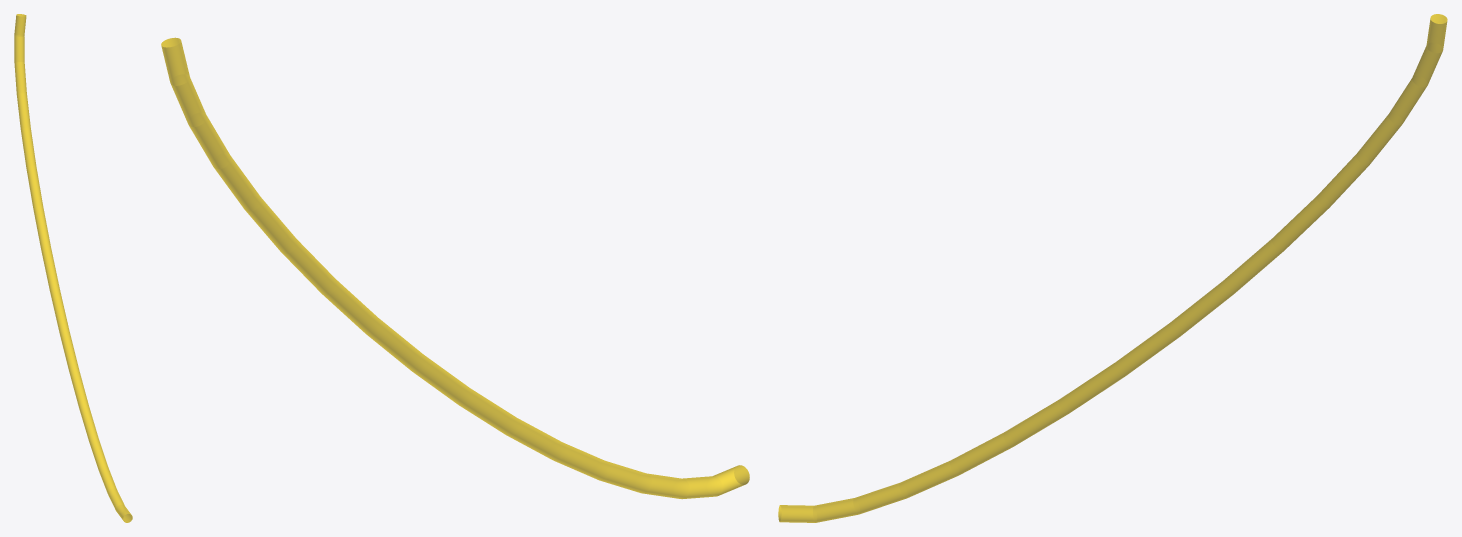
The model's file is Event_17758602_track_20.fbx.
3 renders of one model, left to right at view 1: azimuth 30°, elevation 25°; view 2: azimuth 150°, elevation 25°; view 3: azimuth 270°, elevation 25°, orthographic. The views are drawn at different scales.
Visible parts, largest first — view 1: Model; view 2: Model; view 3: Model.
Part boxes in pixels (left/top/right/bottom): Model: left=14, top=14, right=132, bottom=522; Model: left=161, top=37, right=749, bottom=499; Model: left=778, top=14, right=1447, bottom=522.
Size of the model in its own units: 0.4406 by 1.47 by 1.55.
